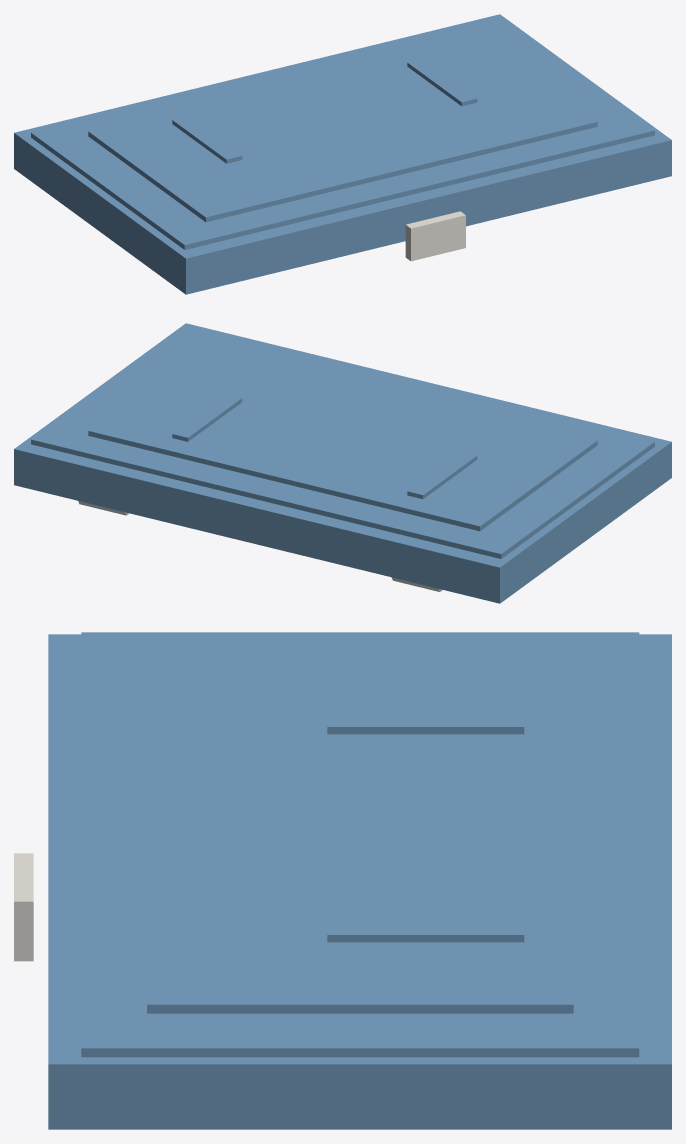
The model's file is cooler_lid.glb.
3 views of the same model, one above another, from view 1: azimuth 30°, elevation 25°; view 2: azimuth 150°, elevation 25°; view 3: azimuth 270°, elevation 25° (orthographic). The views are drawn at different scales.
Visible parts, largest first — view 1: CoolerLid; view 2: CoolerLid; view 3: CoolerLid.
Boxes of the visible parts, left/top/right/bottom form: CoolerLid: left=14, top=14, right=671, bottom=294; CoolerLid: left=14, top=323, right=671, bottom=603; CoolerLid: left=14, top=632, right=671, bottom=1129.
Size of the model in its own units: 0.62 by 0.076 by 0.401.
